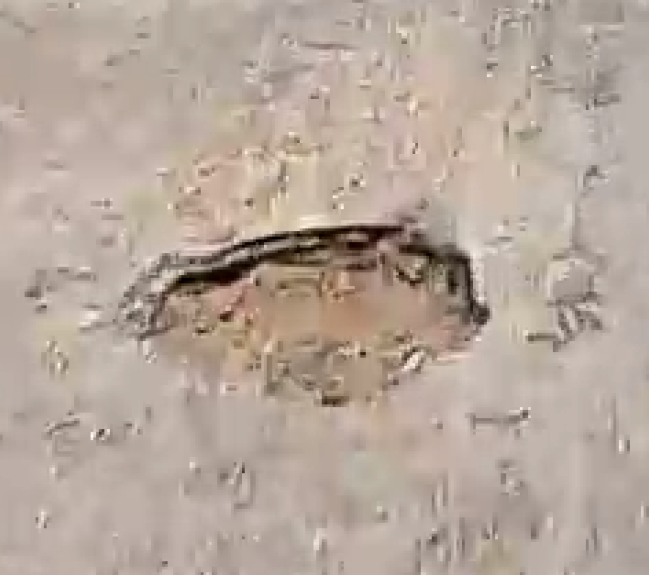Berlubang: (109, 202, 512, 425)
